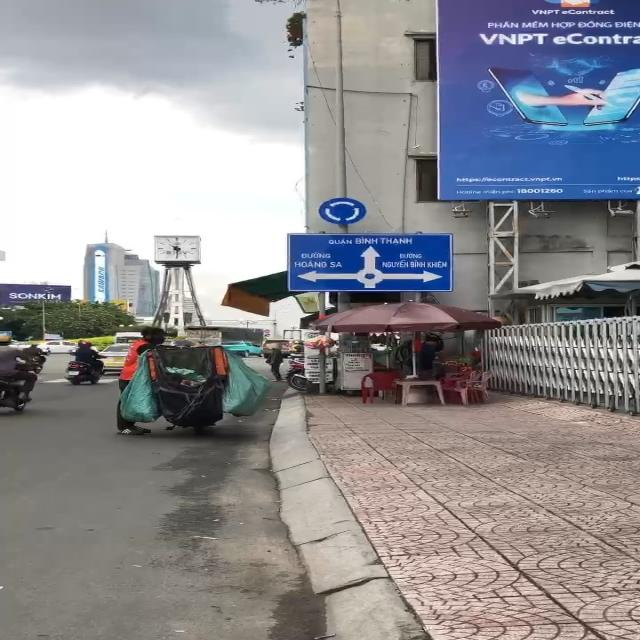Bien bao noi giao nhau chay theo vong xuyen: (318, 196, 370, 225)
